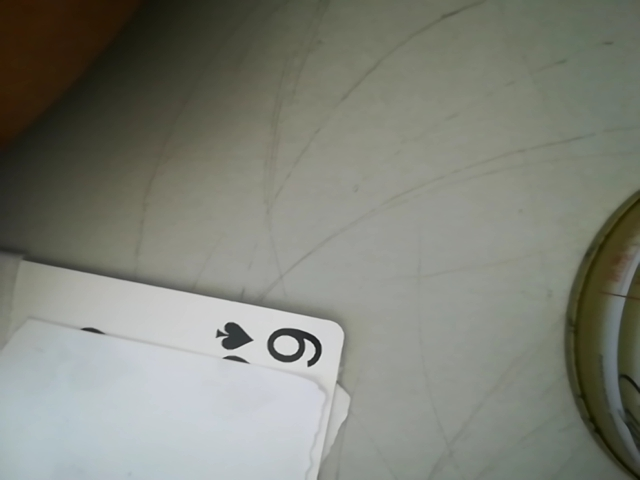ht 6: (195, 312, 338, 376)
